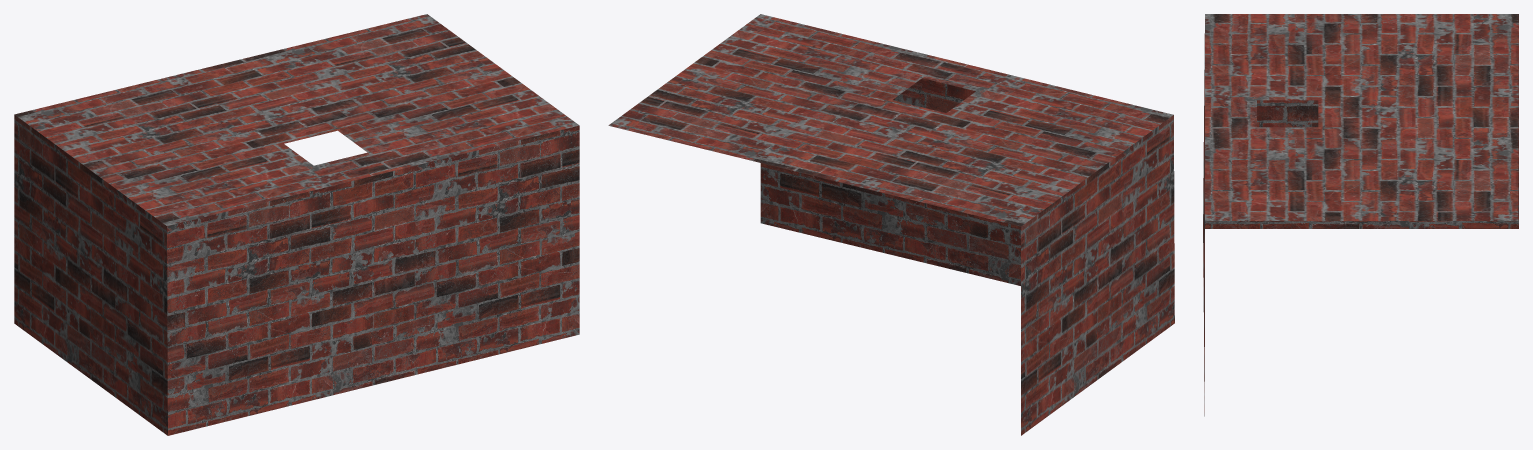
The model's file is Walls_040.fbx.
The picture shows the model from 3 angles, left to right: view 1: azimuth 30°, elevation 25°; view 2: azimuth 150°, elevation 25°; view 3: azimuth 270°, elevation 25°; orthographic projection. The views are drawn at different scales.
Visible parts, largest first — view 1: Walls; view 2: Walls; view 3: Walls.
Part boxes in pixels (x1,y1,x2,y2): Walls: [14, 14, 579, 435]; Walls: [608, 14, 1174, 435]; Walls: [1203, 14, 1518, 416].
Bounding box in the file's own units: 8.23 × 3.98 × 5.31.
1 material, 1 textured.
